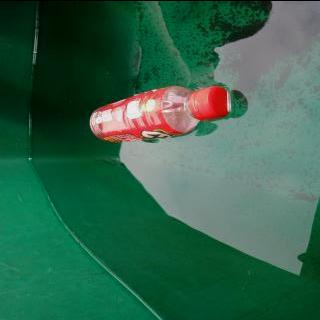bottle: (88, 85, 232, 142)
